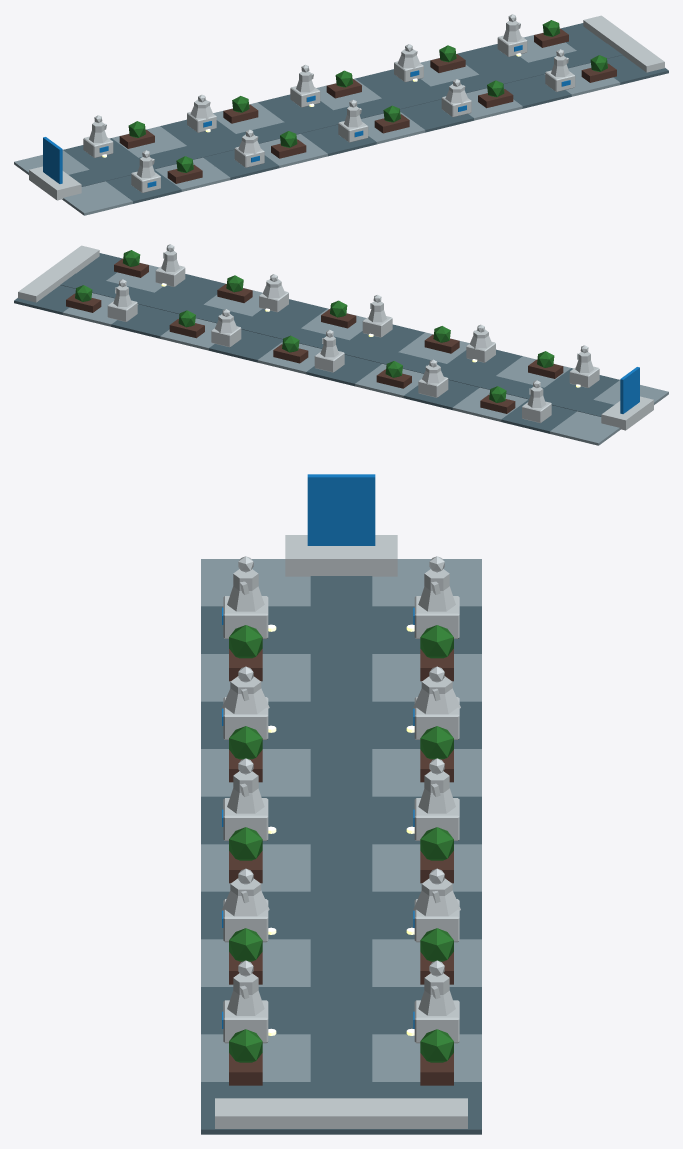
The model's file is duong_danh_nhan.glb.
3 views of the same model, one above another, from view 1: azimuth 30°, elevation 25°; view 2: azimuth 150°, elevation 25°; view 3: azimuth 270°, elevation 25° (orthographic). The views are drawn at different scales.
Parts seen in each view (by area): view 1: Duong_CenterStrip, Duong_Tile_9, Duong_Tile_7, Duong_Tile_0, Duong_Tile_5, Duong_Tile_3, Duong_Tile_1, Duong_Tile_2, Duong_Tile_4, Duong_EndCap, Duong_Tile_6, Duong_Tile_11 (+24 smaller); view 2: Duong_CenterStrip, Duong_Tile_9, Duong_Tile_7, Duong_Tile_0, Duong_Tile_5, Duong_Tile_3, Duong_Tile_1, Duong_Tile_2, Duong_Tile_4, Duong_EndCap, Duong_Tile_6, Duong_Tile_11 (+24 smaller); view 3: Duong_CenterStrip, Duong_EndCap, Duong_Tile_4, Duong_Tile_6, Duong_Tile_8, Duong_Tile_2, Duong_Tile_10, Duong_Tile_0, Duong_Tile_9, Duong_Tile_1, Duong_Tile_5, Duong_Tile_7 (+14 smaller).
Part boxes in pixels (box(x1,y1,x2,y2)): Duong_CenterStrip: box(69, 43, 622, 186); Duong_Tile_9: box(457, 44, 571, 108); Duong_Tile_7: box(355, 69, 473, 132); Duong_Tile_0: box(14, 150, 132, 215); Duong_Tile_5: box(258, 94, 376, 156); Duong_Tile_3: box(160, 119, 279, 179); Duong_Tile_1: box(63, 138, 181, 203); Duong_Tile_2: box(112, 126, 230, 191); Duong_Tile_4: box(213, 102, 327, 167); Duong_EndCap: box(583, 15, 664, 72); Duong_Tile_6: box(316, 78, 425, 144); Duong_Tile_11: box(560, 23, 668, 84); Duong_CenterStrip: box(60, 273, 613, 416); Duong_Tile_9: box(111, 274, 225, 338); Duong_Tile_7: box(209, 299, 327, 362); Duong_Tile_0: box(550, 380, 668, 445); Duong_Tile_5: box(306, 324, 424, 386); Duong_Tile_3: box(403, 349, 522, 409); Duong_Tile_1: box(501, 368, 619, 433); Duong_Tile_2: box(452, 356, 570, 421); Duong_Tile_4: box(355, 332, 469, 397); Duong_EndCap: box(18, 245, 99, 302); Duong_Tile_6: box(257, 308, 366, 374); Duong_Tile_11: box(14, 253, 122, 314); Duong_CenterStrip: box(310, 576, 372, 1098); Duong_EndCap: box(215, 1098, 467, 1128); Duong_Tile_4: box(201, 749, 481, 796); Duong_Tile_6: box(201, 844, 481, 891); Duong_Tile_8: box(201, 939, 481, 986); Duong_Tile_2: box(201, 654, 481, 701); Duong_Tile_10: box(201, 1034, 481, 1081); Duong_Tile_0: box(201, 559, 481, 606); Duong_Tile_9: box(201, 987, 481, 1034); Duong_Tile_1: box(201, 606, 481, 653); Duong_Tile_5: box(201, 796, 481, 844); Duong_Tile_7: box(201, 891, 481, 939).
Bounding box in the file's own units: 48.5 × 3.6 × 10.
